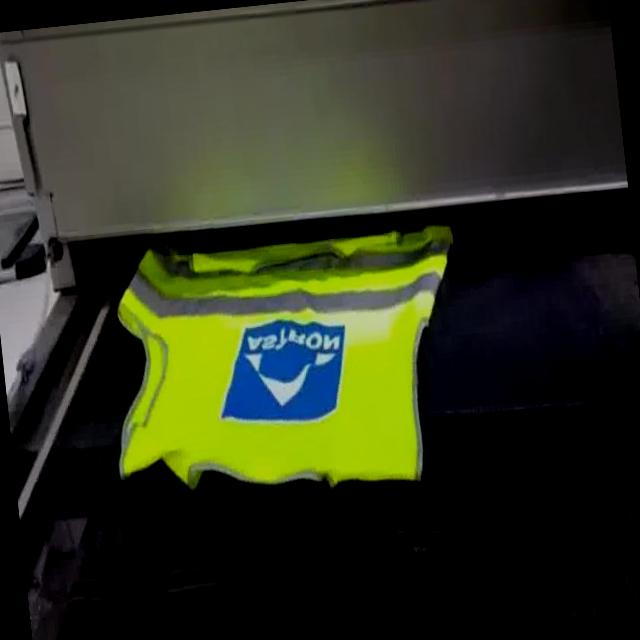vest: (93, 217, 480, 516)
